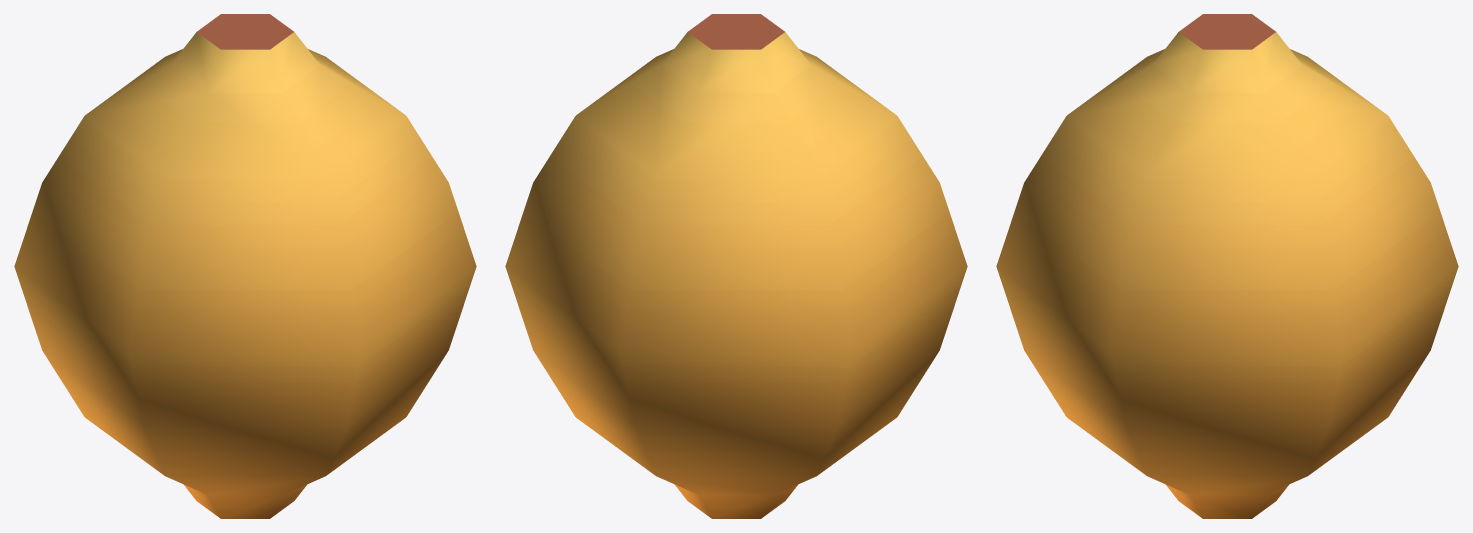
File: lemon.6113f28391.glb
3 renders of one model, left to right at view 1: azimuth 30°, elevation 25°; view 2: azimuth 150°, elevation 25°; view 3: azimuth 270°, elevation 25°, orthographic.
Visible parts, largest first — view 1: lemon; view 2: lemon; view 3: lemon.
Boxes of the visible parts, box(x1,y1,x2,y2) form: lemon: box(14, 14, 476, 518); lemon: box(505, 14, 967, 518); lemon: box(996, 14, 1458, 518).
Bounding box in the file's own units: 0.1732 × 0.224 × 0.2.
1 material, 1 textured.
